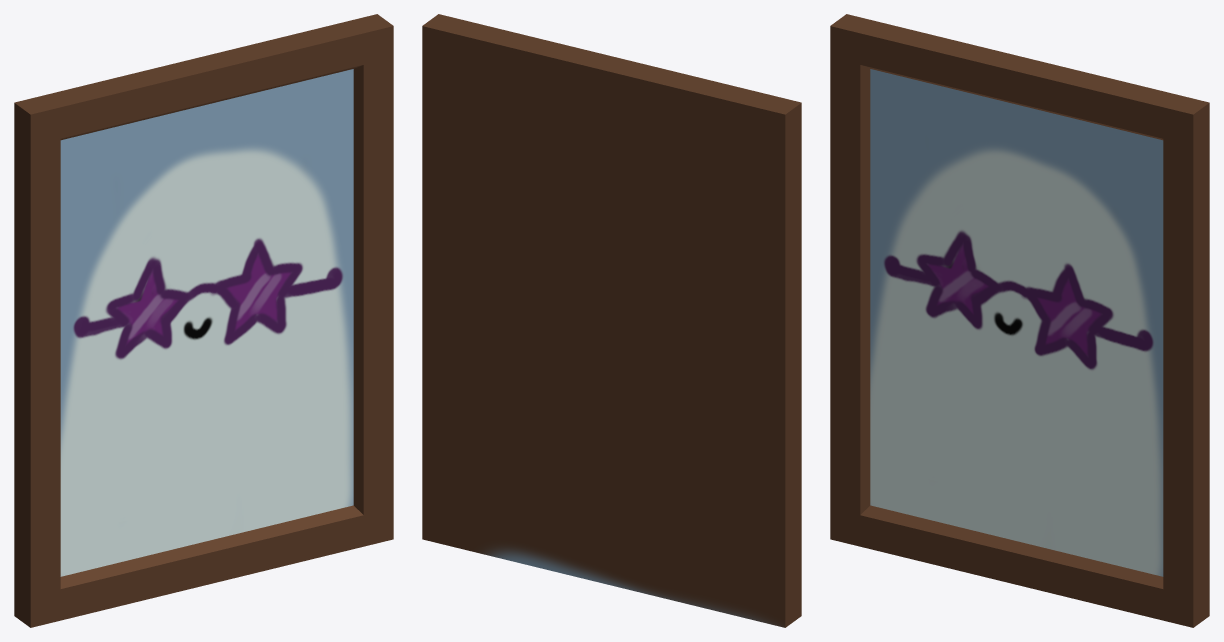
Rendered from painting2.glb.
The picture shows the model from 3 angles, left to right: view 1: azimuth 30°, elevation 25°; view 2: azimuth 150°, elevation 25°; view 3: azimuth 330°, elevation 25°; orthographic projection.
Parts seen in each view (by area): view 1: Cube.009; view 2: Cube.009; view 3: Cube.009.
Boxes of the visible parts, x1,y1,x2,y2 form: Cube.009: (14, 14, 393, 627); Cube.009: (422, 14, 801, 627); Cube.009: (830, 14, 1209, 627).
Bounding box in the file's own units: 2 × 2.7 × 0.1569.
1 material, 1 textured.
